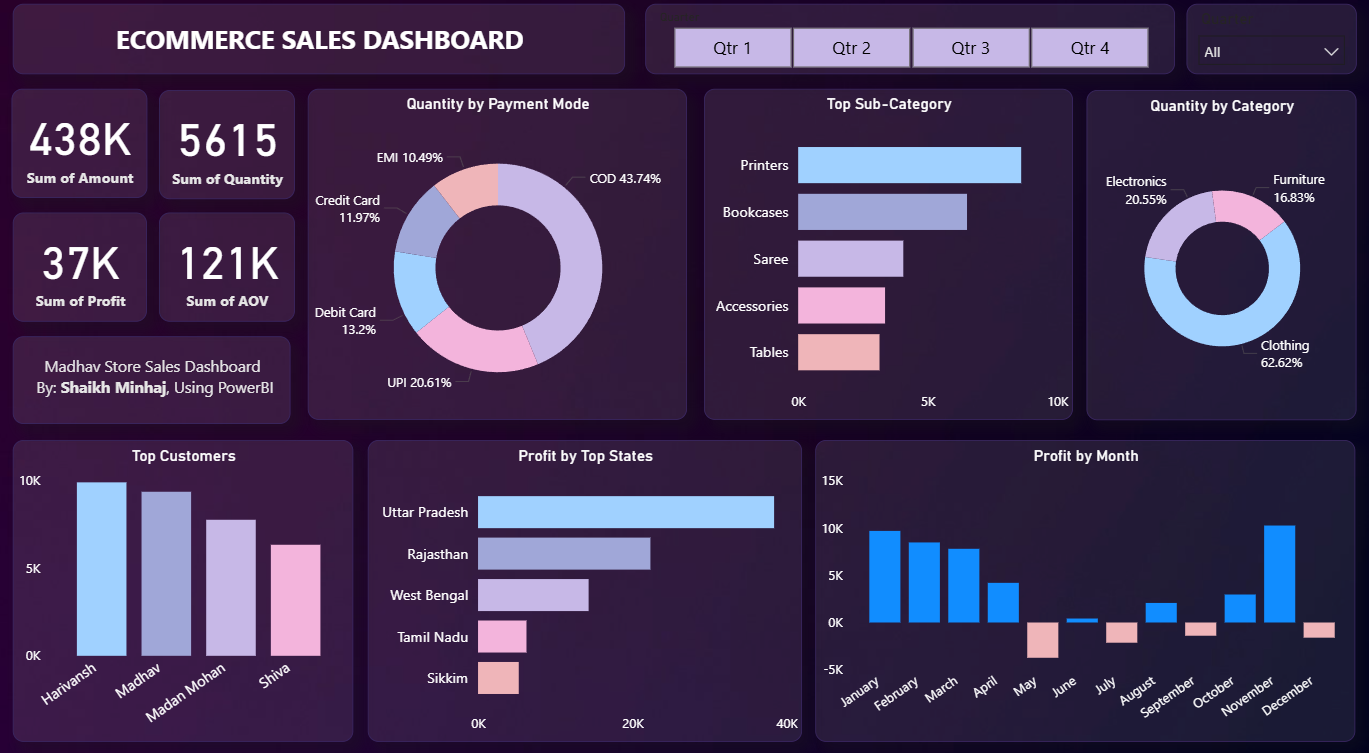

Layout of this report page (visuals, bound fields, positions):
{"tool":"powerbi","page":{"name":"Page 1","canvas":[1280,720],"ordinal":0},"visuals":[{"type":"textbox","box":[12.5,12.5,569.4,65.3],"z":0},{"type":"columnChart","title":"Profit by Month","fields":{"Category":["Orders.Order Date.Variation.Date Hierarchy.Month"],"Y":["Details.Profit"]},"box":[759.7,418.1,502.8,280.6],"z":1000},{"type":"barChart","title":"Top Sub-Category","fields":{"Category":["Details.Sub-Category"],"Y":["Details.Profit"]},"box":[655.6,91.7,343.1,308.3],"z":2000},{"type":"donutChart","title":"Quantity by Category","fields":{"Category":["Details.Category"],"Y":["Details.Quantity"]},"box":[1011.1,93.1,251.4,306.9],"z":3000},{"type":"donutChart","title":"Quantity by Payment Mode","fields":{"Category":["Details.PaymentMode"],"Y":["Details.Quantity"]},"box":[287.5,91.7,352.8,308.3],"z":4000},{"type":"card","fields":{"Values":["Details.Average Order Value"]},"box":[148.6,206.9,126.4,101.4],"z":5000},{"type":"card","fields":{"Values":["Details.Quantity"]},"box":[148.6,93.1,126.4,101.4],"z":6000},{"type":"card","fields":{"Values":["Details.Profit"]},"box":[12.5,206.9,125,101.4],"z":7000},{"type":"card","fields":{"Values":["Details.Amount"]},"box":[11.1,91.7,126.4,101.4],"z":8000},{"type":"barChart","title":"Profit by Top States","fields":{"Category":["Orders.State"],"Y":["Details.Amount"]},"box":[343.1,418.1,404.2,280.6],"z":9000},{"type":"columnChart","title":"Top Customers","fields":{"Category":["Orders.CustomerName"],"Y":["Details.Amount"]},"box":[12.5,418.1,316.7,280.6],"z":10000},{"type":"textbox","box":[12.5,322.2,258.3,81.9],"z":11000},{"type":"slicer","fields":{"Values":["Orders.Order Date.Variation.Date Hierarchy.Quarter"]},"box":[601.4,12.5,493.1,65.3],"z":12000},{"type":"slicer","fields":{"Values":["Orders.Order Date.Variation.Date Hierarchy.Quarter"]},"box":[1104.2,12.5,158.3,65.3],"z":13000}]}

Visuals, with their boxes in screenshot pixels (x1, y1, x2, y2), scaled from the page's 1280x720 canvas onto the 1369x753 screenshot:
textbox: [13,13,622,81]
"Profit by Month" columnChart: [813,437,1350,731]
"Top Sub-Category" barChart: [701,96,1068,418]
"Quantity by Category" donutChart: [1081,97,1350,418]
"Quantity by Payment Mode" donutChart: [307,96,685,418]
card - Details.Average Order Value: [159,216,294,322]
card - Details.Quantity: [159,97,294,203]
card - Details.Profit: [13,216,147,322]
card - Details.Amount: [12,96,147,202]
"Profit by Top States" barChart: [367,437,799,731]
"Top Customers" columnChart: [13,437,352,731]
textbox: [13,337,290,423]
slicer - Orders.Order Date.Variation.Date Hierarchy.Quarter: [643,13,1171,81]
slicer - Orders.Order Date.Variation.Date Hierarchy.Quarter: [1181,13,1350,81]
